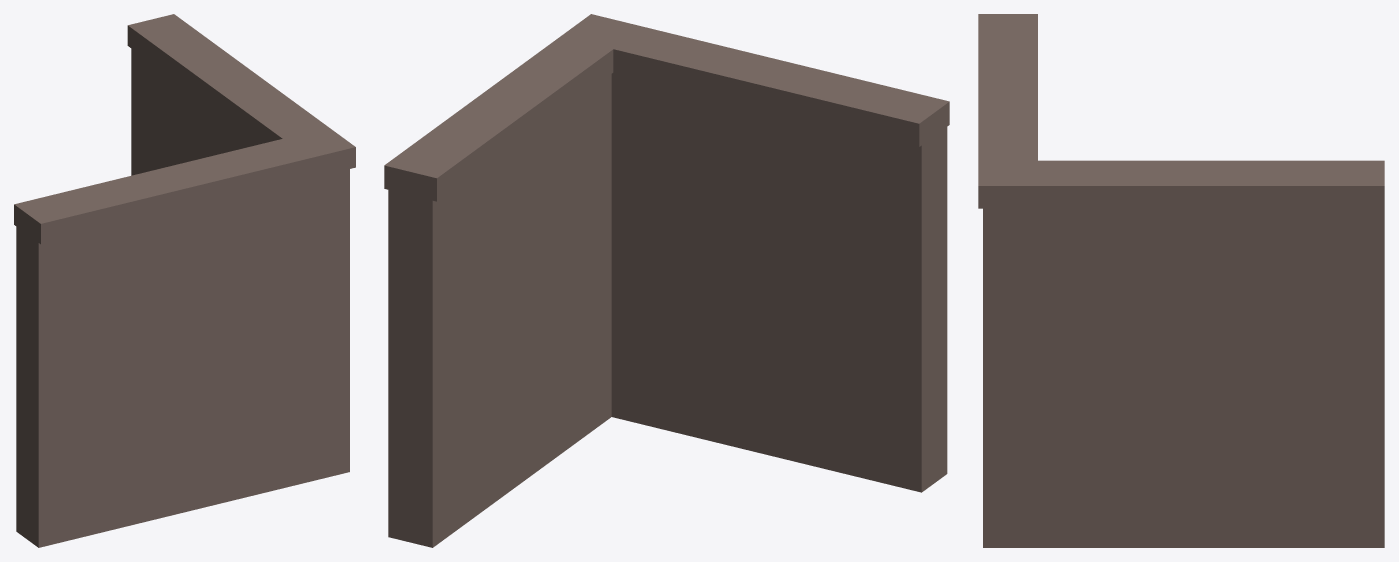
File: Village_Wall_Stone_2m_Corner_A.fbx
3 renders of one model, left to right at view 1: azimuth 30°, elevation 25°; view 2: azimuth 150°, elevation 25°; view 3: azimuth 270°, elevation 25°, orthographic. The views are drawn at different scales.
Visible parts, largest first — view 1: Village_Wall_2m_Stone_Corner_A.006; view 2: Village_Wall_2m_Stone_Corner_A.006; view 3: Village_Wall_2m_Stone_Corner_A.006.
Boxes of the visible parts, x1=… form: Village_Wall_2m_Stone_Corner_A.006: x1=14, y1=14, x2=355, y2=547; Village_Wall_2m_Stone_Corner_A.006: x1=384, y1=14, x2=949, y2=547; Village_Wall_2m_Stone_Corner_A.006: x1=978, y1=14, x2=1384, y2=547.
Bounding box in the file's own units: 202 × 200 × 202.
